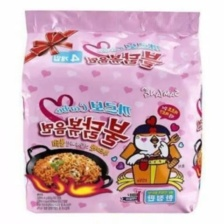snack: (15, 3, 209, 219)
